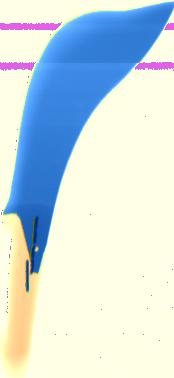Knife: (1, 1, 172, 378)
